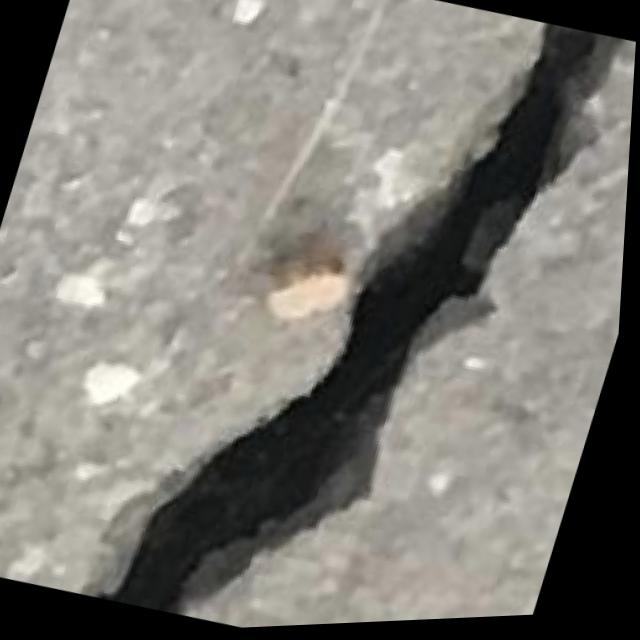Crack: (96, 0, 640, 636)
